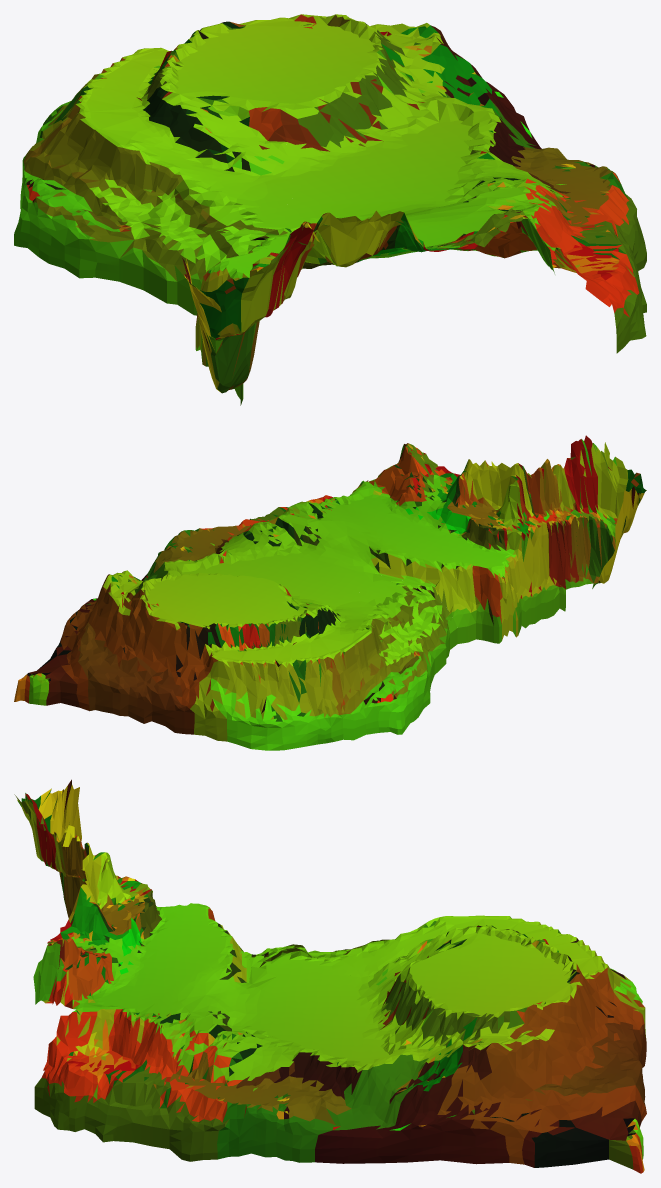
The model's file is Partenon.fbx.
The picture shows the model from 3 angles, top to bottom: view 1: azimuth 30°, elevation 25°; view 2: azimuth 150°, elevation 25°; view 3: azimuth 270°, elevation 25°; orthographic projection. The views are drawn at different scales.
Visible parts, largest first — view 1: terrain_5, terrain, terrain_9, terrain_8, terrain_12, terrain_10, terrain_1, terrain_11, terrain_14, terrain_15, terrain_7, terrain_3 (+4 smaller); view 2: terrain_13, terrain_5, terrain_4, terrain_6, terrain_7, terrain_1, terrain, terrain_2, terrain_3, terrain_8, terrain_9, terrain_15 (+5 smaller); view 3: terrain_15, terrain_14, terrain_10, terrain_13, terrain_7, terrain_8, terrain_9, terrain_12, terrain_16, terrain_4, terrain_11, terrain (+5 smaller).
Part boxes in pixels (x1,y1,x2,y2): terrain_5: [14, 71, 234, 278]; terrain: [95, 157, 318, 315]; terrain_9: [160, 42, 364, 158]; terrain_8: [236, 140, 467, 220]; terrain_12: [193, 14, 438, 129]; terrain_10: [531, 183, 646, 353]; terrain_1: [182, 226, 313, 393]; terrain_11: [355, 99, 539, 194]; terrain_14: [437, 97, 641, 231]; terrain_15: [370, 23, 525, 122]; terrain_7: [359, 182, 551, 255]; terrain_3: [235, 210, 414, 394]; terrain_13: [14, 599, 211, 734]; terrain_5: [278, 608, 430, 744]; terrain_4: [376, 512, 540, 643]; terrain_6: [194, 622, 320, 750]; terrain_7: [264, 485, 431, 573]; terrain_1: [563, 435, 646, 588]; terrain: [329, 573, 457, 690]; terrain_2: [515, 459, 592, 618]; terrain_3: [438, 460, 547, 619]; terrain_8: [237, 544, 373, 609]; terrain_9: [197, 575, 326, 629]; terrain_15: [27, 570, 176, 673]; terrain_15: [405, 1010, 640, 1173]; terrain_14: [202, 1048, 417, 1163]; terrain_10: [34, 1007, 222, 1161]; terrain_13: [540, 962, 646, 1173]; terrain_7: [82, 956, 251, 1048]; terrain_8: [237, 962, 394, 1043]; terrain_9: [383, 925, 557, 1021]; terrain_12: [397, 953, 579, 1052]; terrain_16: [33, 884, 133, 1009]; terrain_4: [131, 884, 251, 982]; terrain_11: [216, 1014, 415, 1080]; terrain: [247, 939, 398, 984].
Bounding box in the file's own units: 6829 × 2622 × 7843.
